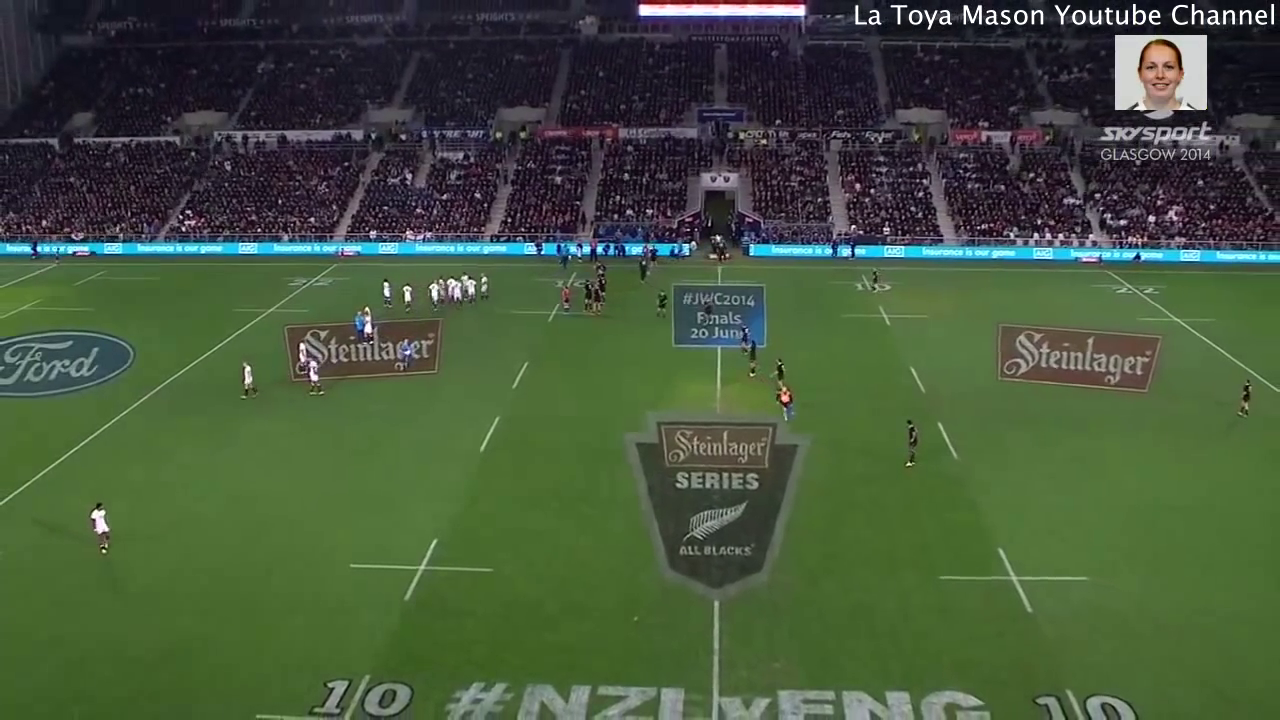10_metre: (332, 529, 503, 609), (932, 540, 1099, 614), (245, 661, 440, 720), (1019, 680, 1149, 720), (837, 300, 936, 332), (506, 299, 602, 324), (824, 271, 912, 295), (533, 269, 605, 292)
player: (82, 493, 118, 562), (900, 411, 923, 475), (235, 357, 261, 408), (305, 354, 329, 402), (775, 384, 800, 430), (394, 337, 419, 372), (746, 333, 764, 381), (292, 333, 313, 374), (770, 348, 789, 389), (738, 320, 755, 360), (361, 308, 377, 350), (398, 277, 415, 316), (589, 278, 604, 320), (425, 276, 442, 313), (557, 283, 576, 316), (698, 293, 716, 327), (654, 287, 671, 322), (378, 275, 393, 310), (443, 274, 459, 306), (452, 277, 468, 308), (594, 273, 610, 304), (464, 273, 479, 306), (353, 307, 367, 342), (476, 272, 492, 302), (639, 257, 651, 287), (869, 265, 881, 295), (582, 276, 591, 314), (594, 258, 609, 279), (438, 275, 449, 303), (460, 274, 471, 284)
